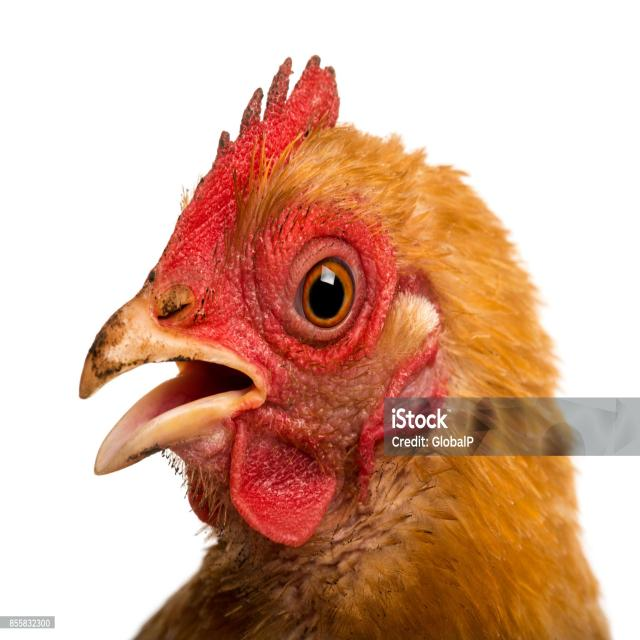Chicken: (66, 81, 588, 638)
